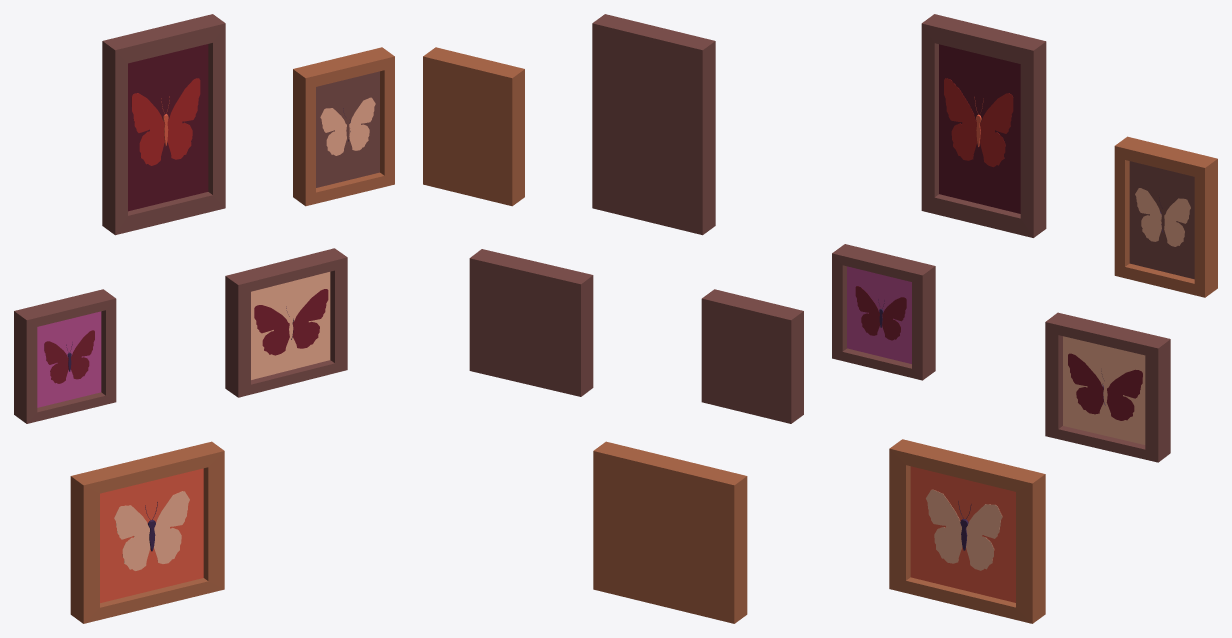
Rendered from quadros de borboletas.fbx.
The picture shows the model from 3 angles, left to right: view 1: azimuth 30°, elevation 25°; view 2: azimuth 150°, elevation 25°; view 3: azimuth 330°, elevation 25°; orthographic projection.
Visible parts, largest first — view 1: Plane.022, Plane.026, Cube.090, Cube.091, Plane.027; view 2: Plane.022, Plane.026, Cube.090, Cube.091, Plane.027; view 3: Plane.022, Plane.026, Cube.090, Cube.091, Plane.027.
Boxes of the visible parts, x1,y1,x2,y2 form: Plane.022: (102, 14, 225, 235); Plane.026: (70, 441, 224, 623); Cube.090: (225, 248, 347, 397); Cube.091: (293, 47, 394, 206); Plane.027: (14, 289, 116, 423); Plane.022: (592, 14, 715, 235); Plane.026: (593, 441, 747, 623); Cube.090: (469, 249, 593, 396); Cube.091: (423, 47, 524, 206); Plane.027: (701, 289, 803, 423); Plane.022: (921, 14, 1046, 237); Plane.026: (889, 439, 1045, 623); Cube.090: (1045, 312, 1170, 462); Cube.091: (1114, 136, 1217, 297); Plane.027: (832, 244, 935, 380).
Size of the model in its own units: 146 by 215 by 9.47.
